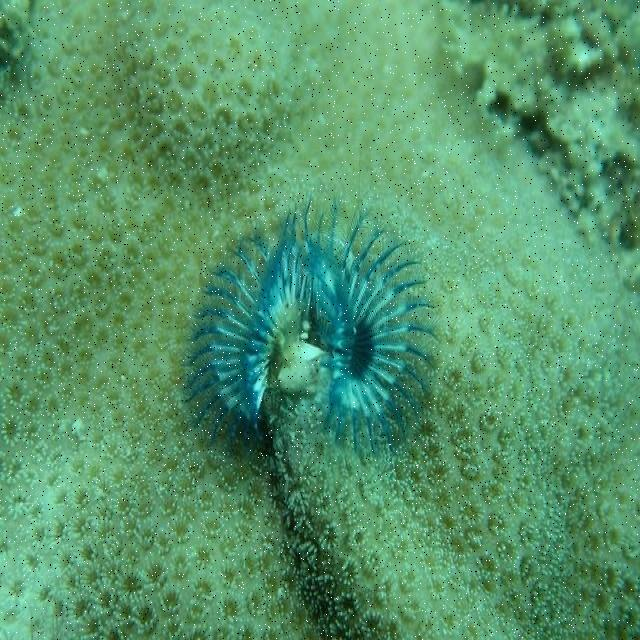reefs: (183, 198, 440, 462)
